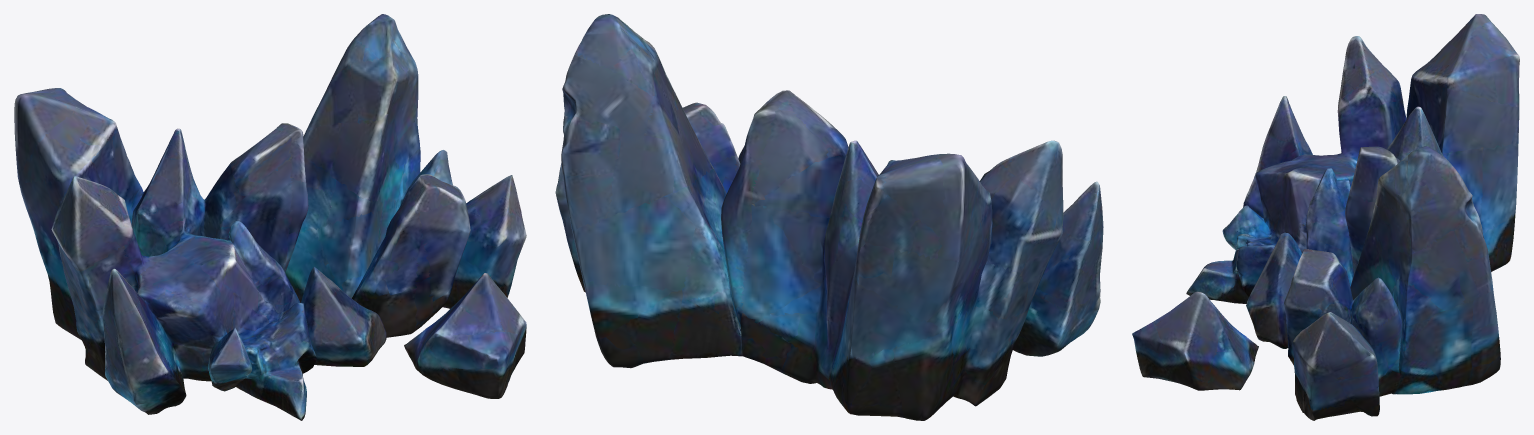
3 views of the same model, side by side, from view 1: azimuth 30°, elevation 25°; view 2: azimuth 150°, elevation 25°; view 3: azimuth 270°, elevation 25° (orthographic). The views are drawn at different scales.
Bounding box in the file's own units: 1.9 × 1.12 × 1.58.
Materials: 1 (1 with a texture image).
